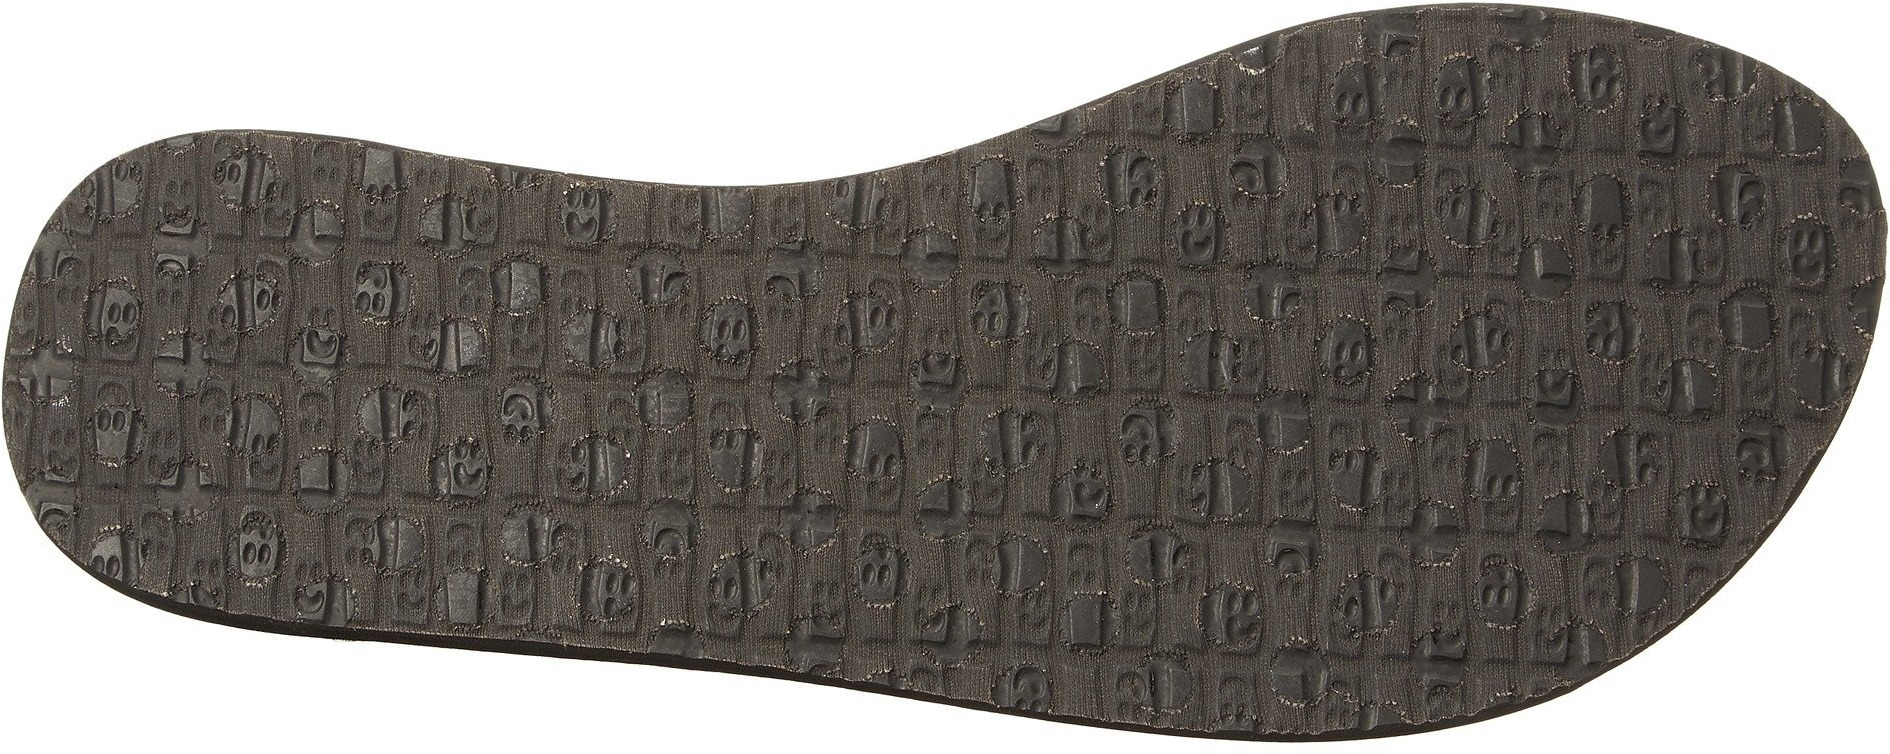other: (1164, 71, 1712, 584), (676, 192, 1172, 661), (207, 176, 670, 630)
